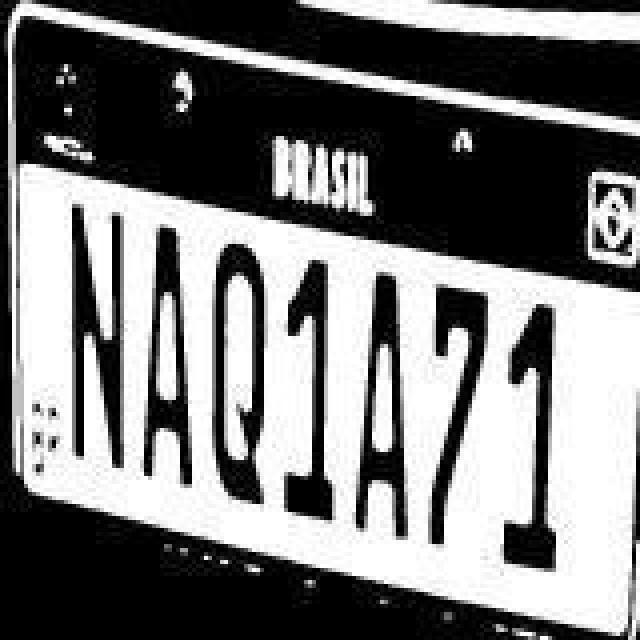1: (504, 282, 568, 582), (282, 254, 342, 530)
7: (432, 266, 496, 558)
A: (134, 216, 202, 504), (356, 254, 420, 546)
N: (58, 202, 126, 494)
Q: (210, 232, 270, 512)
